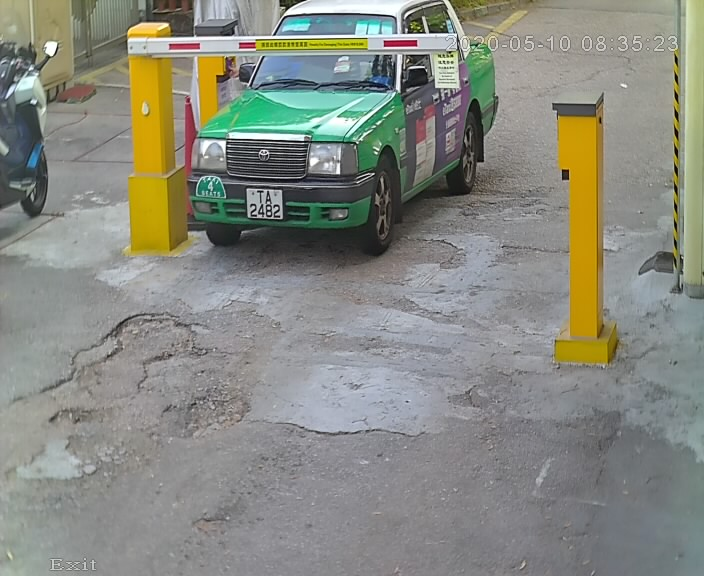taxi: (147, 2, 528, 258)
taxi_mark: (186, 168, 237, 210)
